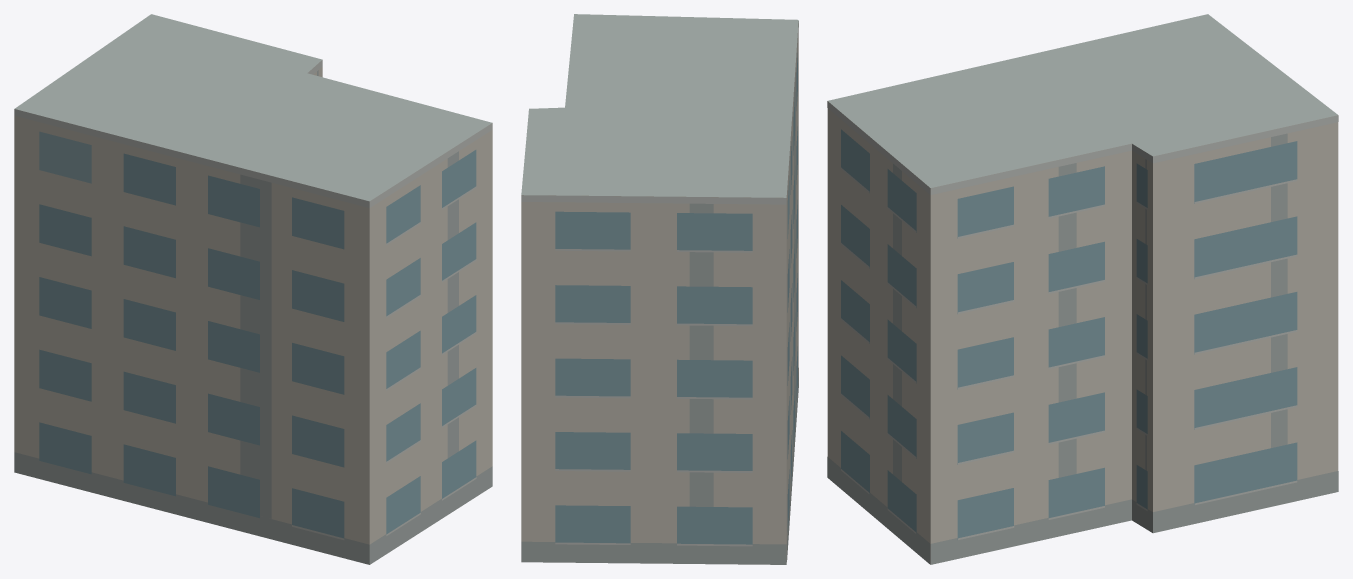
Rendered from survey-upis-32894209.glb.
3 views of the same model, side by side, from view 1: azimuth 30°, elevation 25°; view 2: azimuth 150°, elevation 25°; view 3: azimuth 270°, elevation 25° (orthographic). The views are drawn at different scales.
Parts seen in each view (by area): view 1: survey-upis-32894209.tmp; view 2: survey-upis-32894209.tmp; view 3: survey-upis-32894209.tmp.
Boxes of the visible parts, bbox=[...] form: survey-upis-32894209.tmp: bbox=[14, 14, 492, 564]; survey-upis-32894209.tmp: bbox=[521, 14, 798, 564]; survey-upis-32894209.tmp: bbox=[827, 14, 1338, 564].
Bounding box in the file's own units: 13 × 13.1 × 16.12.
